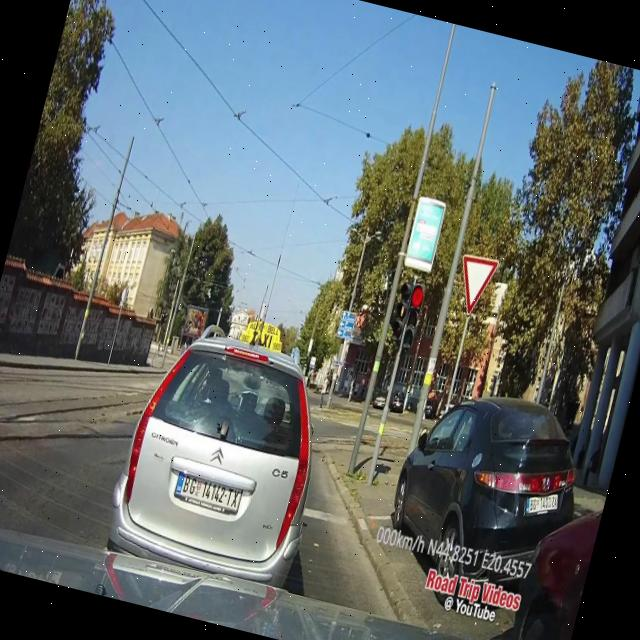License-plate: (172, 472, 243, 518), (520, 486, 560, 528)
